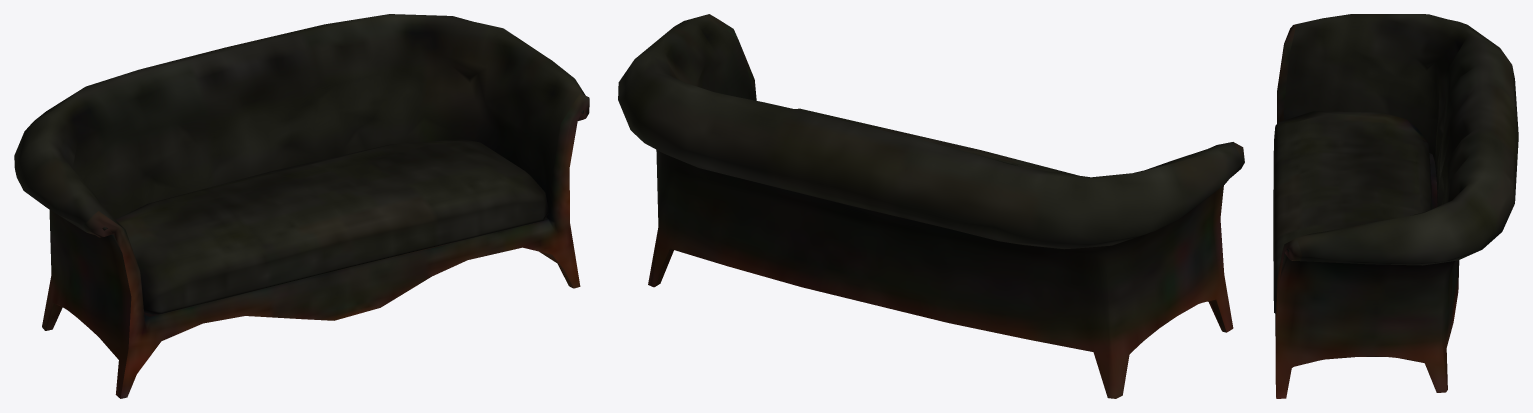
File: ph_sofa_1.glb
The picture shows the model from 3 angles, left to right: view 1: azimuth 30°, elevation 25°; view 2: azimuth 150°, elevation 25°; view 3: azimuth 270°, elevation 25°; orthographic projection. The views are drawn at different scales.
Visible parts, largest first — view 1: ph_sofa_1; view 2: ph_sofa_1; view 3: ph_sofa_1.
Part boxes in pixels (x1,y1,x2,y2): ph_sofa_1: (14,14,589,398); ph_sofa_1: (618,14,1244,398); ph_sofa_1: (1273,14,1518,398).
Bounding box in the file's own units: 1.8 × 0.7095 × 0.8178.
1 material, 1 textured.
